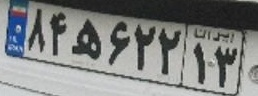character: (71, 13, 104, 66), (156, 23, 182, 77), (213, 42, 240, 92), (132, 21, 156, 74), (106, 19, 132, 67), (48, 9, 71, 59), (25, 6, 48, 54), (190, 41, 212, 85)
